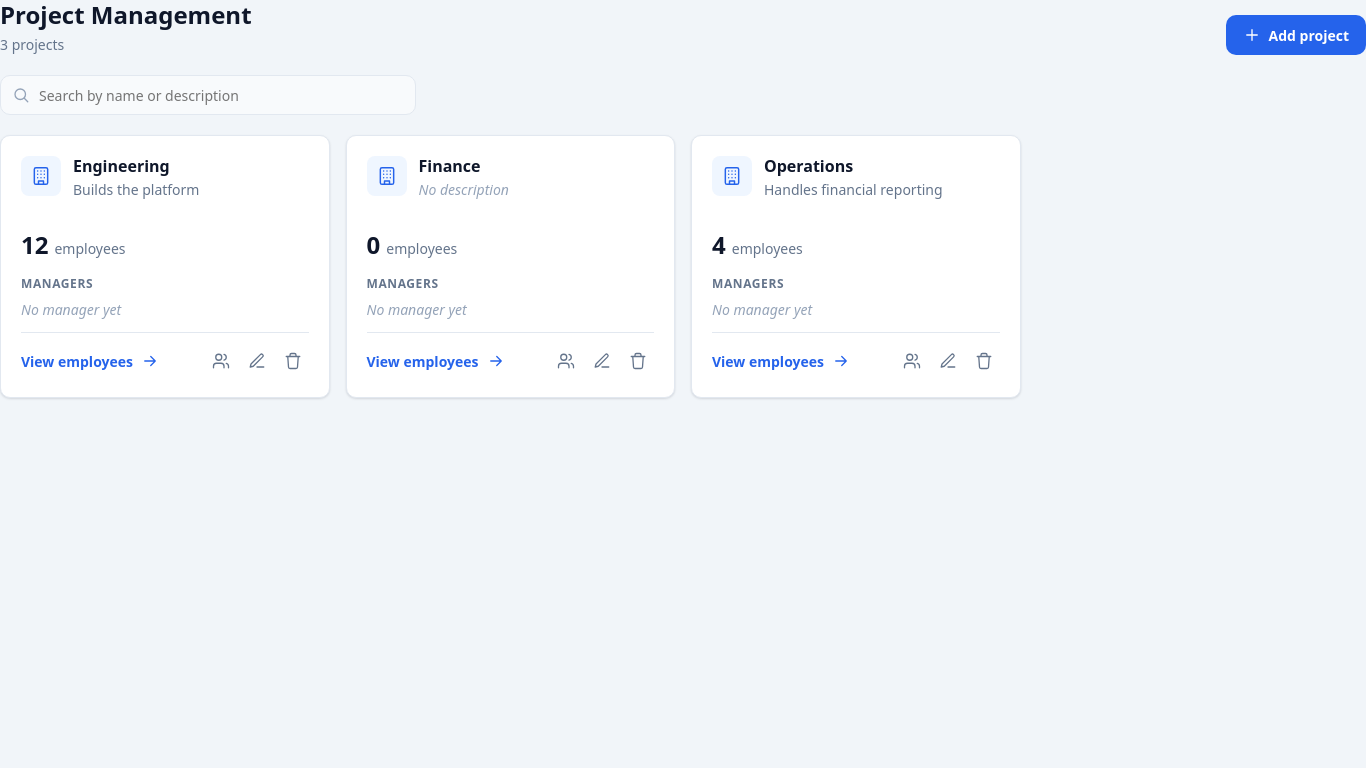
ProjectListComponent › opens the team dialog from the Team button of a project
This screenshot has width=1366, height=768.
Click the button named "Manage team of Engineering" at (220, 361), box [204,345,236,377]
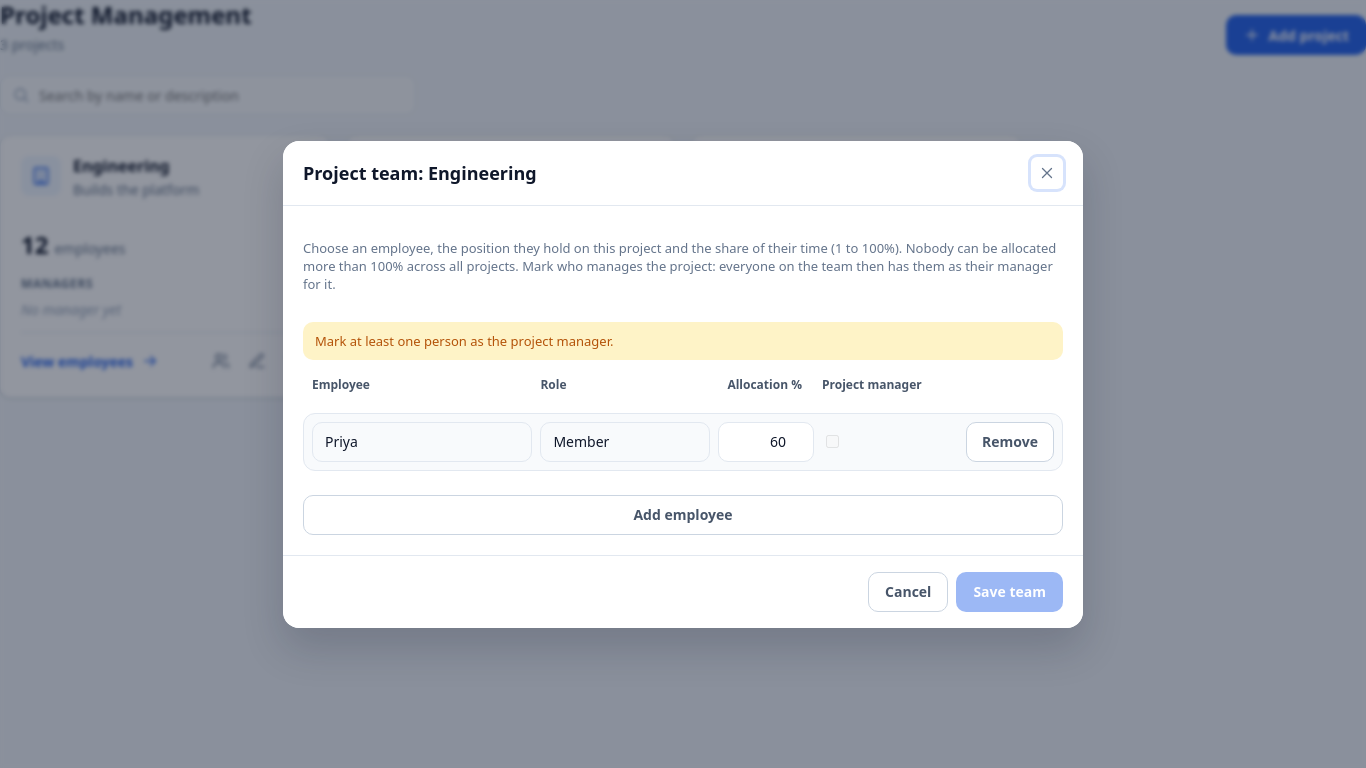
Check: the heading with id "team-dialog-title" reads "Project team: Engineering", box [303,160,537,184]
